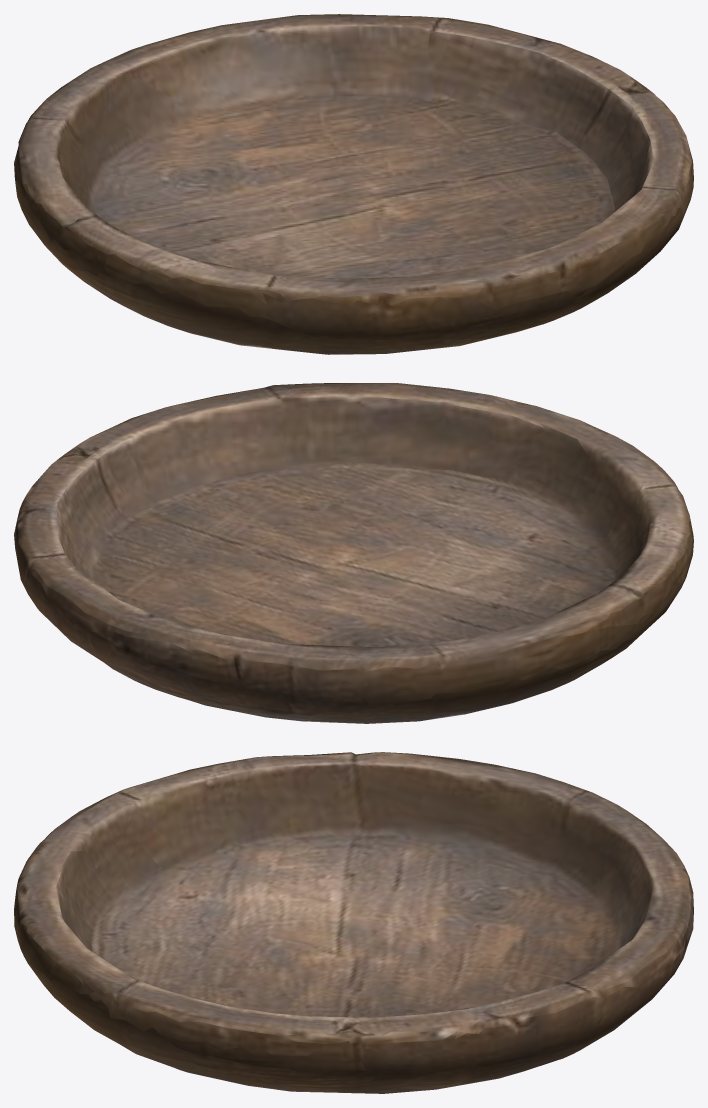
3 renders of one model, top to bottom at view 1: azimuth 30°, elevation 25°; view 2: azimuth 150°, elevation 25°; view 3: azimuth 270°, elevation 25°, orthographic.
Parts seen in each view (by area): view 1: geometry_0; view 2: geometry_0; view 3: geometry_0.
Boxes of the visible parts, left/top/right/bottom form: geometry_0: left=14, top=14, right=693, bottom=354; geometry_0: left=14, top=383, right=693, bottom=723; geometry_0: left=14, top=752, right=693, bottom=1093.
Bounding box in the file's own units: 0.3198 × 0.0438 × 0.3194.
1 material, 1 textured.
